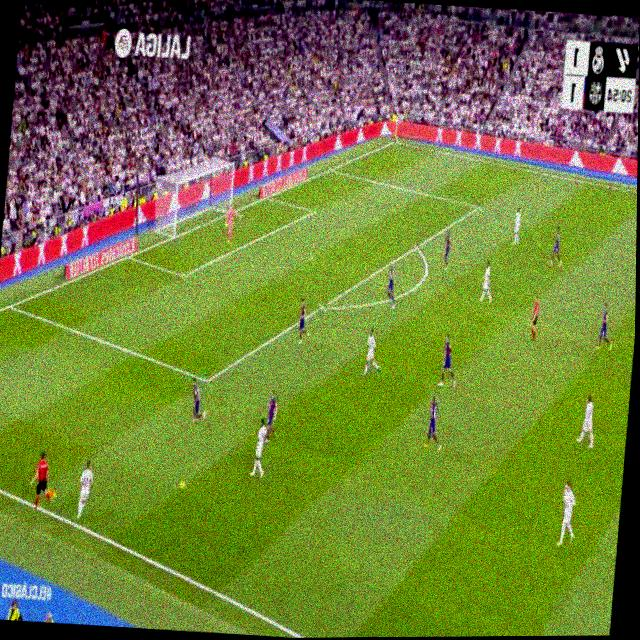bigarea_bottom_inner: (201, 366, 213, 390)
bigarea_top_inner: (475, 200, 481, 212)
bigarea_top_outter: (328, 163, 335, 174)
bottom_arc_area_intersection: (318, 296, 327, 315)
corner: (392, 136, 399, 144)
smallarea_bottom_inner: (178, 266, 188, 285)
smallarea_top_inner: (312, 206, 317, 215)
top_arc_area_intersection: (413, 240, 419, 253)
